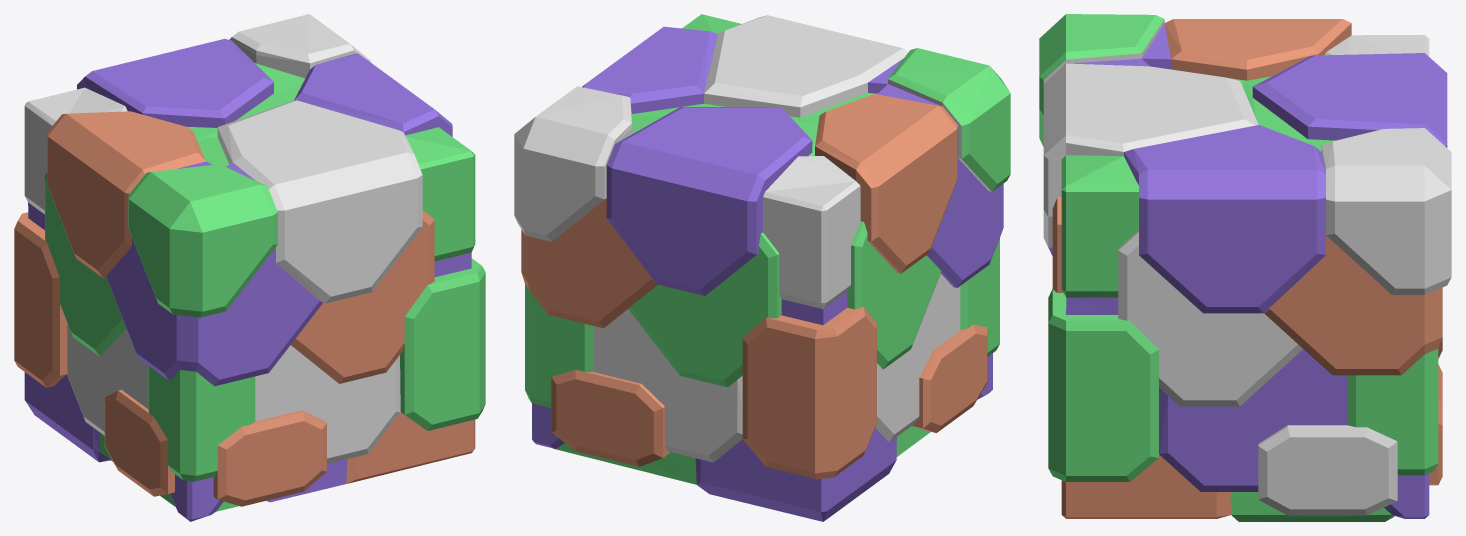
File: cobble_lone.dae
3 renders of one model, left to right at view 1: azimuth 30°, elevation 25°; view 2: azimuth 150°, elevation 25°; view 3: azimuth 270°, elevation 25°, orthographic. The views are drawn at different scales.
Parts seen in each view (by area): view 1: Cube; view 2: Cube; view 3: Cube.
Boxes of the visible parts, x1,y1,x2,y2 form: Cube: [14, 14, 485, 521]; Cube: [514, 14, 1010, 521]; Cube: [1039, 14, 1451, 521].
Size of the model in its own units: 2.3 by 2.3 by 2.26.
